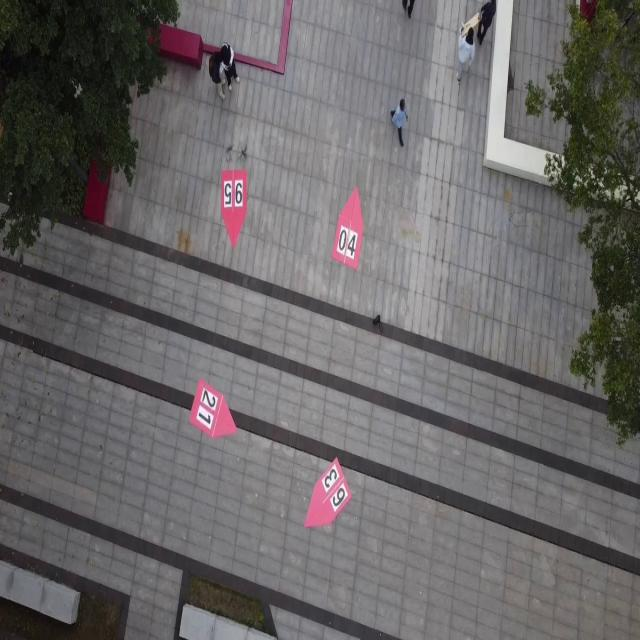-sign-: (329, 176, 369, 279), (304, 458, 354, 529), (189, 378, 237, 440), (220, 168, 248, 248)
